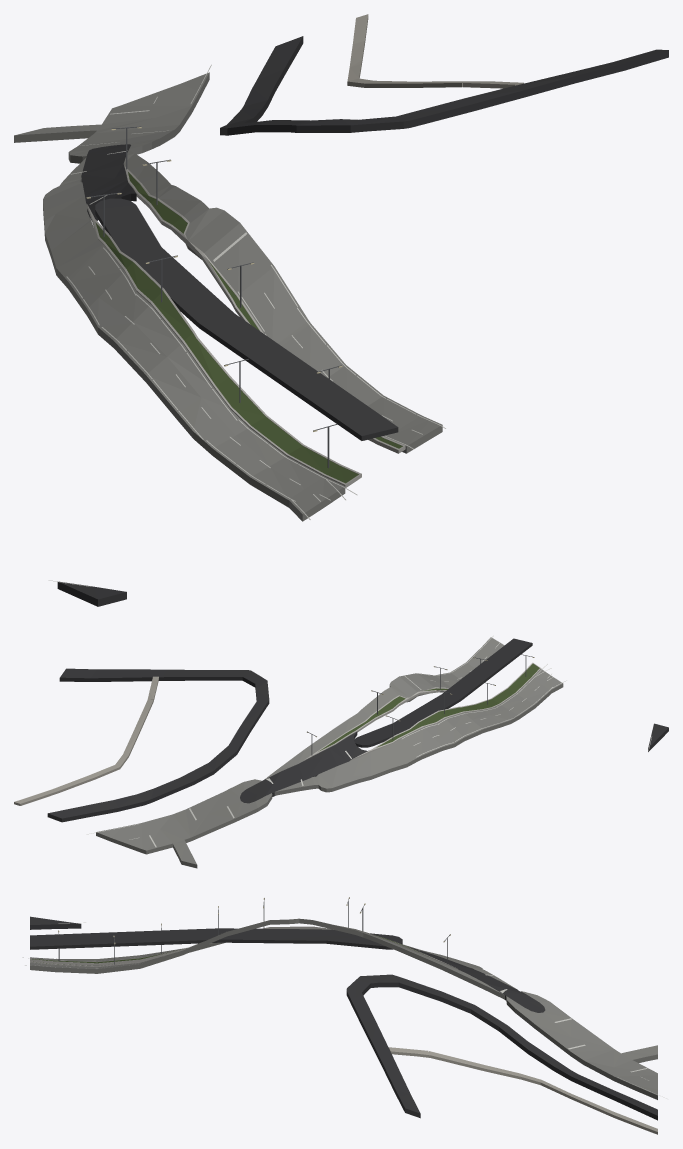
3 renders of one model, top to bottom at view 1: azimuth 30°, elevation 25°; view 2: azimuth 150°, elevation 25°; view 3: azimuth 270°, elevation 25°, orthographic. The views are drawn at different scales.
Size of the model in its own units: 148 by 31.57 by 152.
